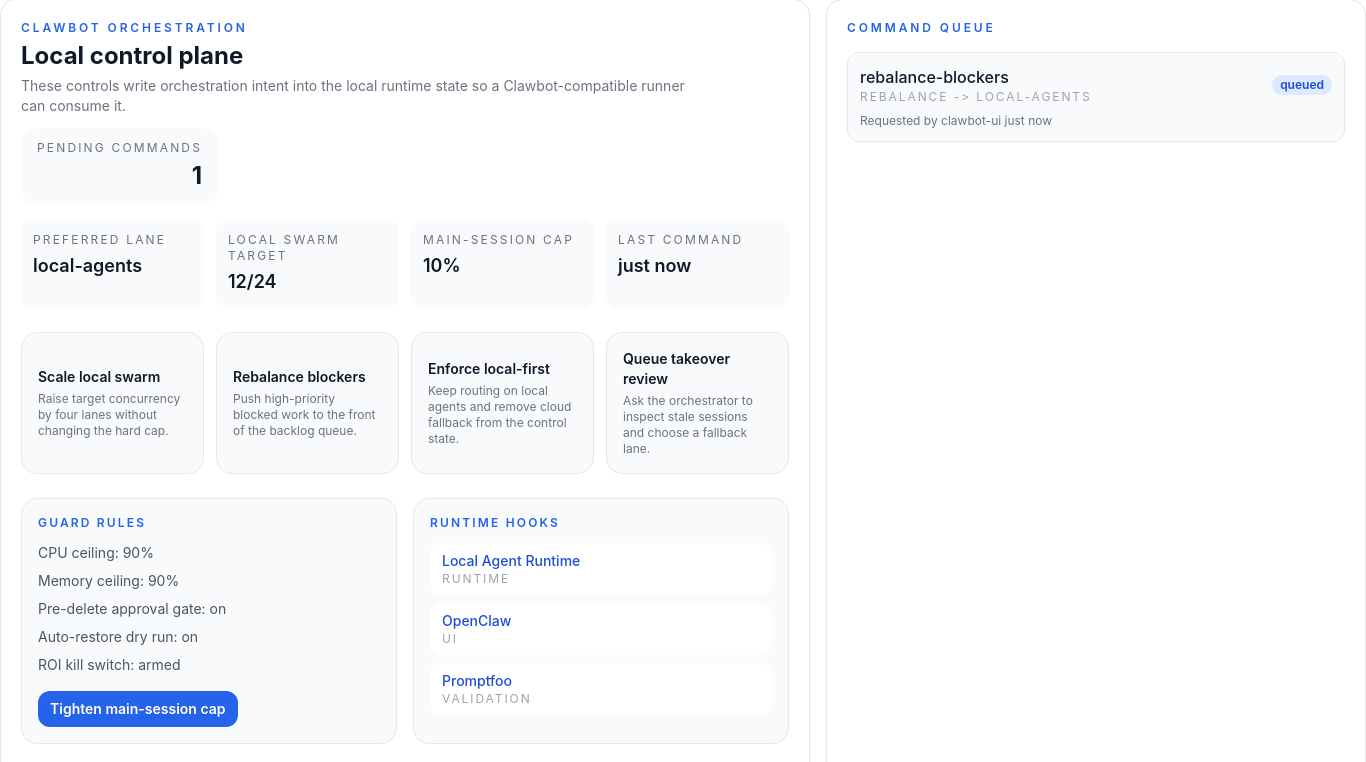
it: ClawbotControlPanel › updates controller settings from the local-first action
Click the button "Enforce local-first" at (502, 403), box [411, 332, 594, 474]
(page scrolled)
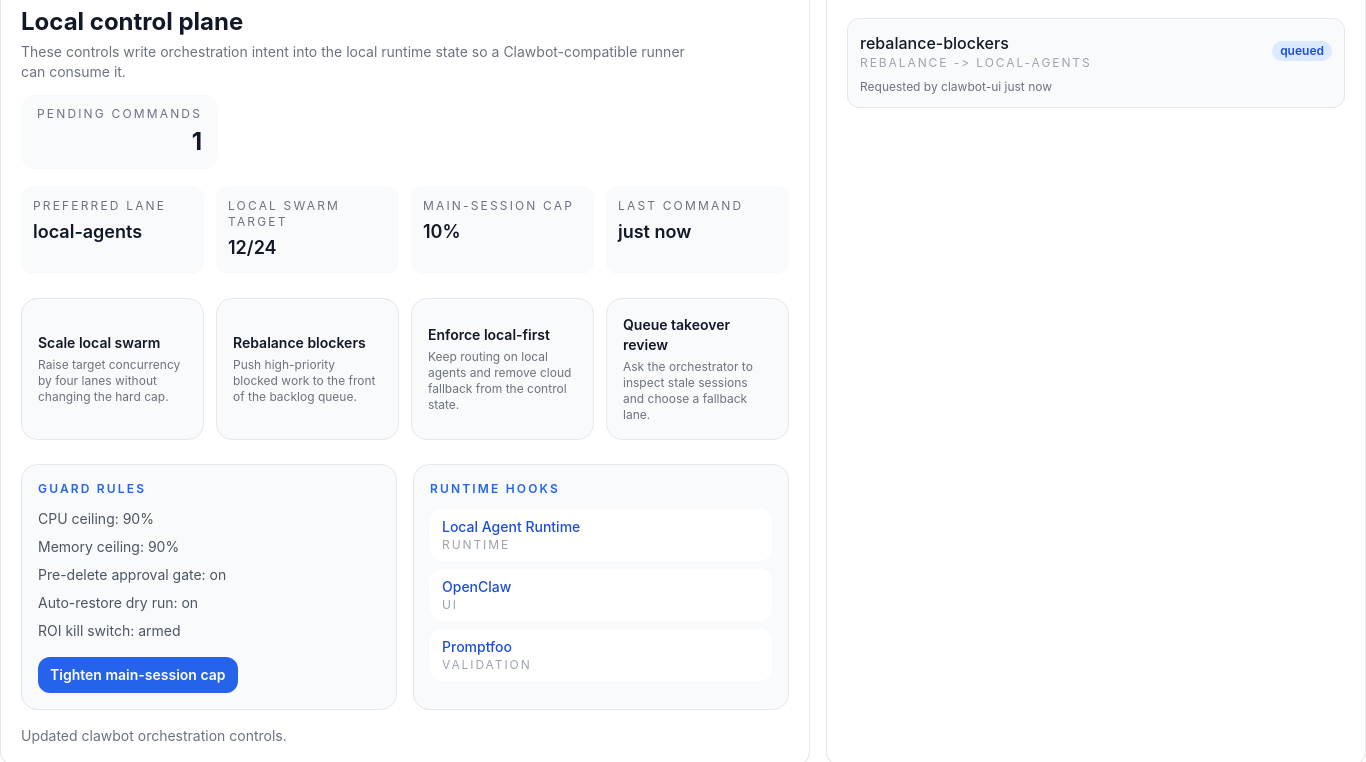
Expected: the text "Updated clawbot orchestration controls." is shown, [21, 727, 287, 744]
